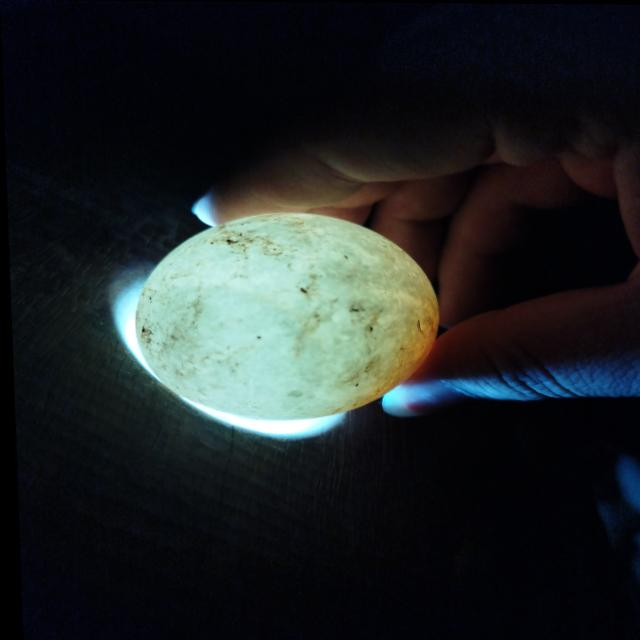Camara de Ar: (133, 287, 313, 420)
